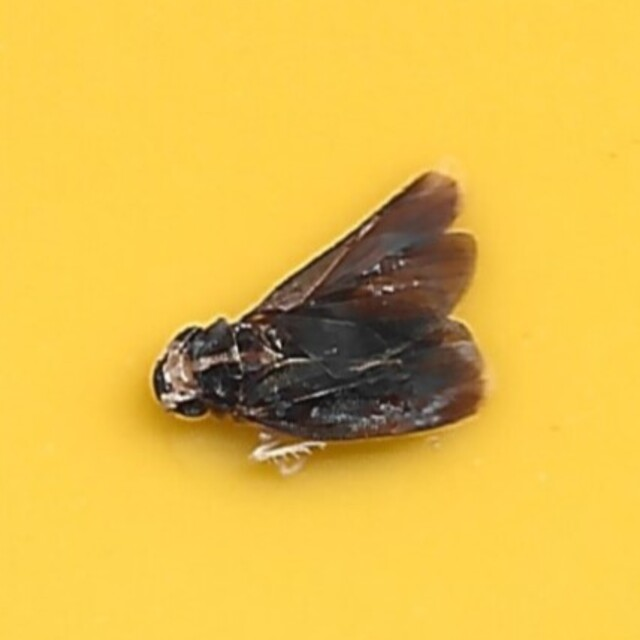Hemiptera: (150, 164, 490, 476)
